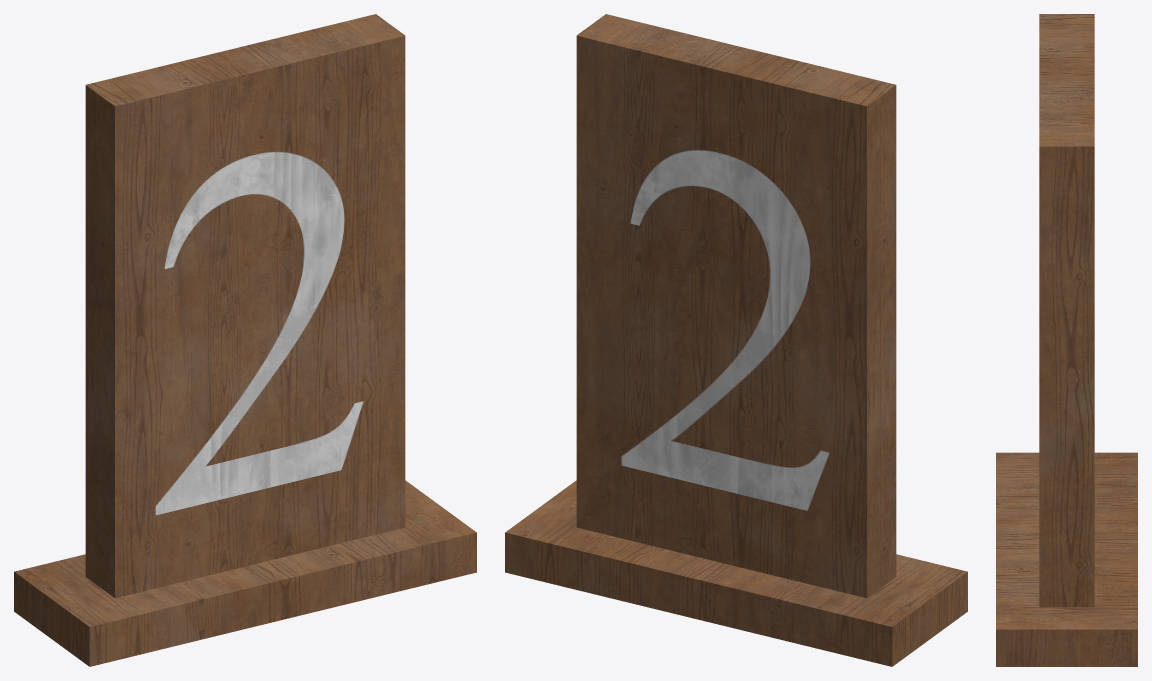
The model's file is Number02Virginia.fbx.
The picture shows the model from 3 angles, left to right: view 1: azimuth 30°, elevation 25°; view 2: azimuth 150°, elevation 25°; view 3: azimuth 270°, elevation 25°; orthographic projection. The views are drawn at different scales.
Visible parts, largest first — view 1: Number02; view 2: Number02; view 3: Number02.
Boxes of the visible parts, x1,y1,x2,y2 form: Number02: (14,14,476,666); Number02: (505,14,967,666); Number02: (996,14,1137,666).
Size of the model in its own units: 5.89 by 7.73 by 1.99.
1 material, 1 textured.
